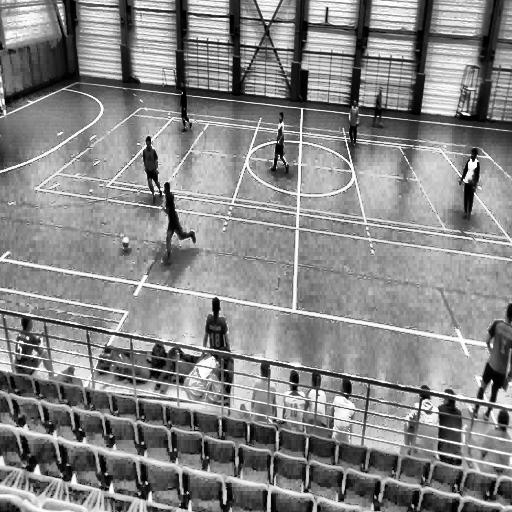ball: (121, 236, 130, 253)
player: (470, 306, 512, 418), (161, 180, 196, 262), (457, 146, 480, 221), (142, 136, 163, 205), (270, 110, 290, 175), (179, 80, 193, 132), (347, 97, 360, 146), (371, 83, 384, 129)
